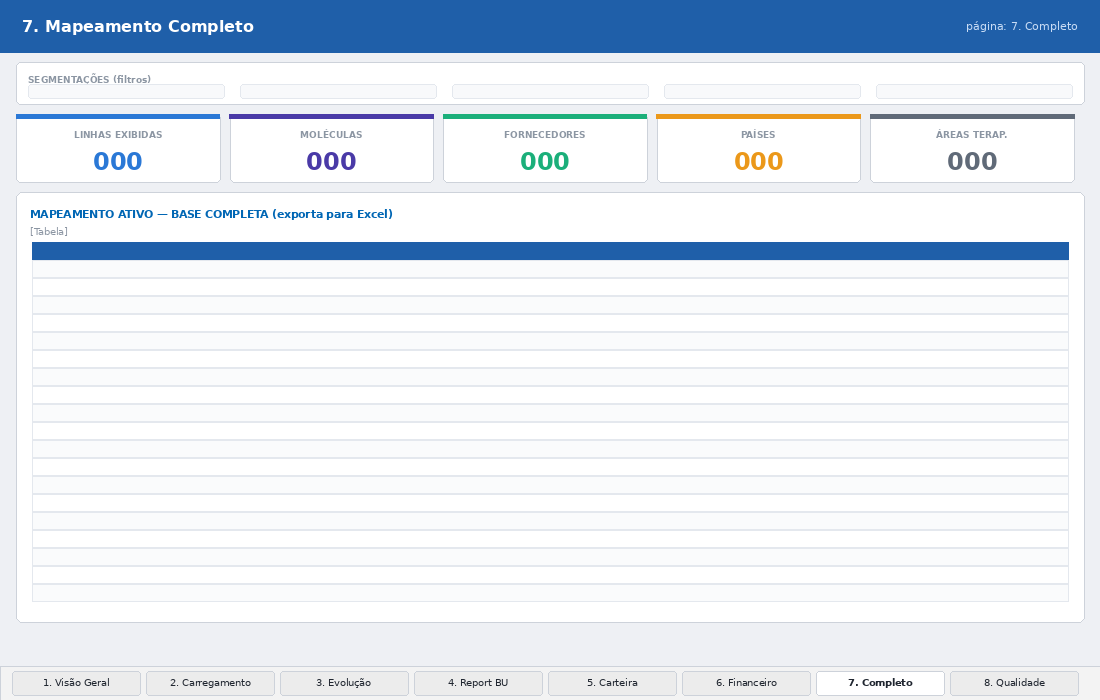

Layout of this report page (visuals, bound fields, positions):
{"tool":"powerbi","page":{"name":"7. Mapeamento Completo","canvas":[1280,720],"ordinal":6},"visuals":[{"type":"shape","box":[0,0,1280,48],"z":-2},{"type":"textbox","box":[20,6,780,34],"z":-1},{"type":"textbox","box":[820,14,444,24],"z":-1},{"type":"slicer","fields":{"Values":["Equipe.Nome"]},"box":[16,56,240,40],"z":0},{"type":"slicer","fields":{"Values":["Unidade de Negócio.Unidade de Negócio"]},"box":[268,56,240,40],"z":0},{"type":"slicer","fields":{"Values":["Status NN.Status"]},"box":[520,56,240,40],"z":0},{"type":"slicer","fields":{"Values":["Mapeamento.Situação"]},"box":[772,56,240,40],"z":0},{"type":"slicer","fields":{"Values":["Mapeamento.Categoria Padrão"]},"box":[1024,56,240,40],"z":0},{"type":"slicer","fields":{"Values":["Mapeamento.Franquia"]},"box":[16,102,240,40],"z":0},{"type":"slicer","fields":{"Values":["Mapeamento.Entrada"]},"box":[268,102,240,40],"z":0},{"type":"slicer","fields":{"Values":["Mapeamento.Atividade"]},"box":[520,102,240,40],"z":0},{"type":"slicer","fields":{"Values":["Motivo Cancelamento.Motivo"]},"box":[772,102,240,40],"z":0},{"type":"slicer","fields":{"Values":["Calendário.Ano"]},"box":[1024,102,240,40],"z":0},{"type":"tableEx","title":"MAPEAMENTO ATIVO — BASE COMPLETA","fields":{"Values":["Mapeamento.Responsável Final","Mapeamento.Gerência","Mapeamento.Entrada","Mapeamento.Molécula","Mapeamento.Código CI","Mapeamento.Marca do Referência BR","Mapeamento.Fornecedor / Parceiro","Mapeamento.País Fornecedor","Mapeamento.Categoria Padrão","Mapeamento.Coligada Padrão","Mapeamento.Área Terapêutica","Mapeamento.Fase Oportunidade NN"]},"box":[16,152,1248,545],"z":0}]}

Visuals, with their boxes on the page's 1280x720 design canvas (x1, y1, x2, y2). These are canvas units, not pixel positions in the 1100x700 screenshot, which may show the page scaled, cropped or inside an application window:
shape: locate(0, 0, 1280, 48)
textbox: locate(20, 6, 800, 40)
textbox: locate(820, 14, 1264, 38)
slicer - Equipe.Nome: locate(16, 56, 256, 96)
slicer - Unidade de Negócio.Unidade de Negócio: locate(268, 56, 508, 96)
slicer - Status NN.Status: locate(520, 56, 760, 96)
slicer - Mapeamento.Situação: locate(772, 56, 1012, 96)
slicer - Mapeamento.Categoria Padrão: locate(1024, 56, 1264, 96)
slicer - Mapeamento.Franquia: locate(16, 102, 256, 142)
slicer - Mapeamento.Entrada: locate(268, 102, 508, 142)
slicer - Mapeamento.Atividade: locate(520, 102, 760, 142)
slicer - Motivo Cancelamento.Motivo: locate(772, 102, 1012, 142)
slicer - Calendário.Ano: locate(1024, 102, 1264, 142)
"MAPEAMENTO ATIVO — BASE COMPLETA" tableEx: locate(16, 152, 1264, 697)
